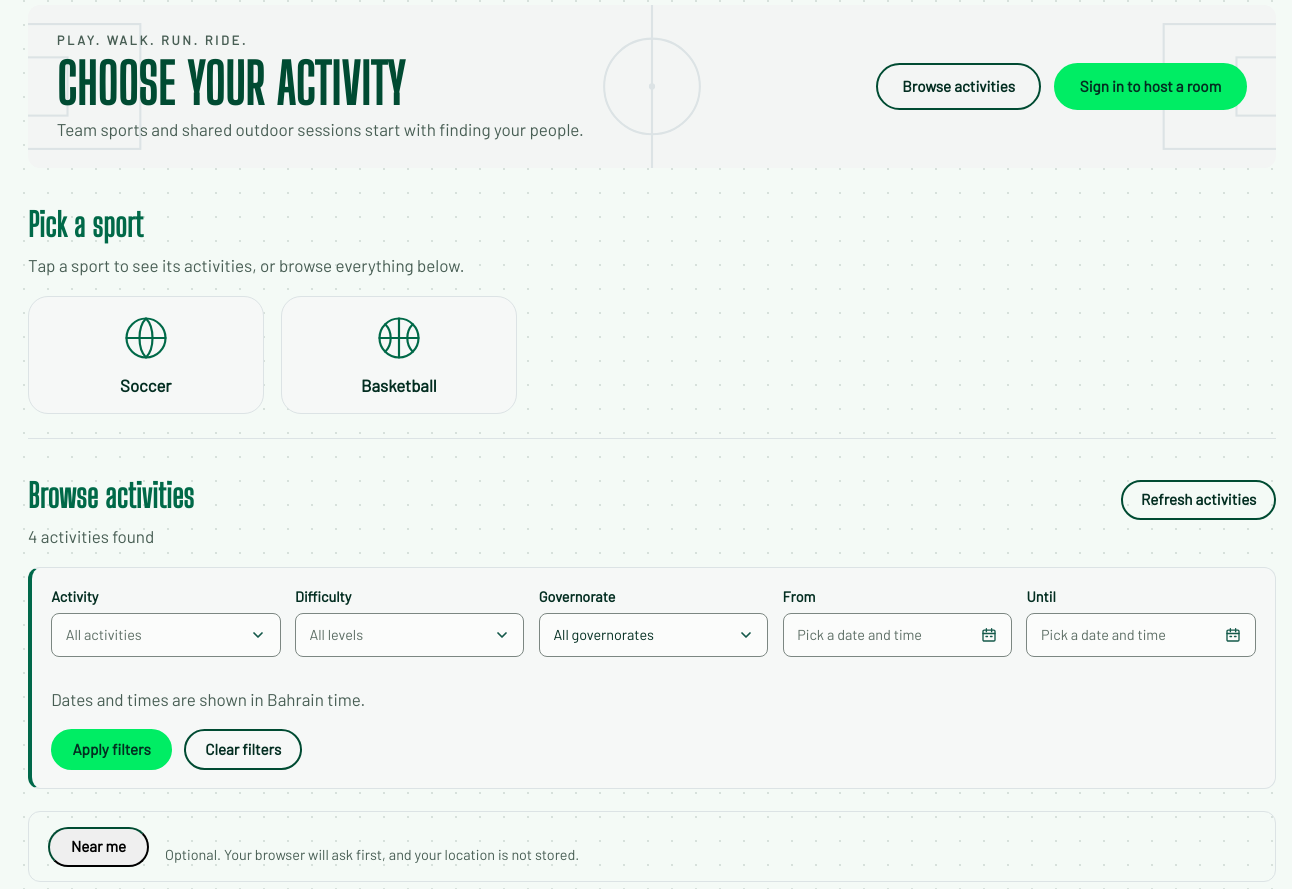
Test: Sports filters and discovery › applies all five filters with UTC timestamps and clears the URL and controls
This screenshot has width=1292, height=889.
Expected: the link "Soccer" is shown, [28,296,264,414]
Select "Basketball" in the dropdown labelled "Activity" at (166, 621), box [51,586,281,657]
Select "Medium" in the dropdown labelled "Difficulty" at (410, 621), box [295,586,524,657]
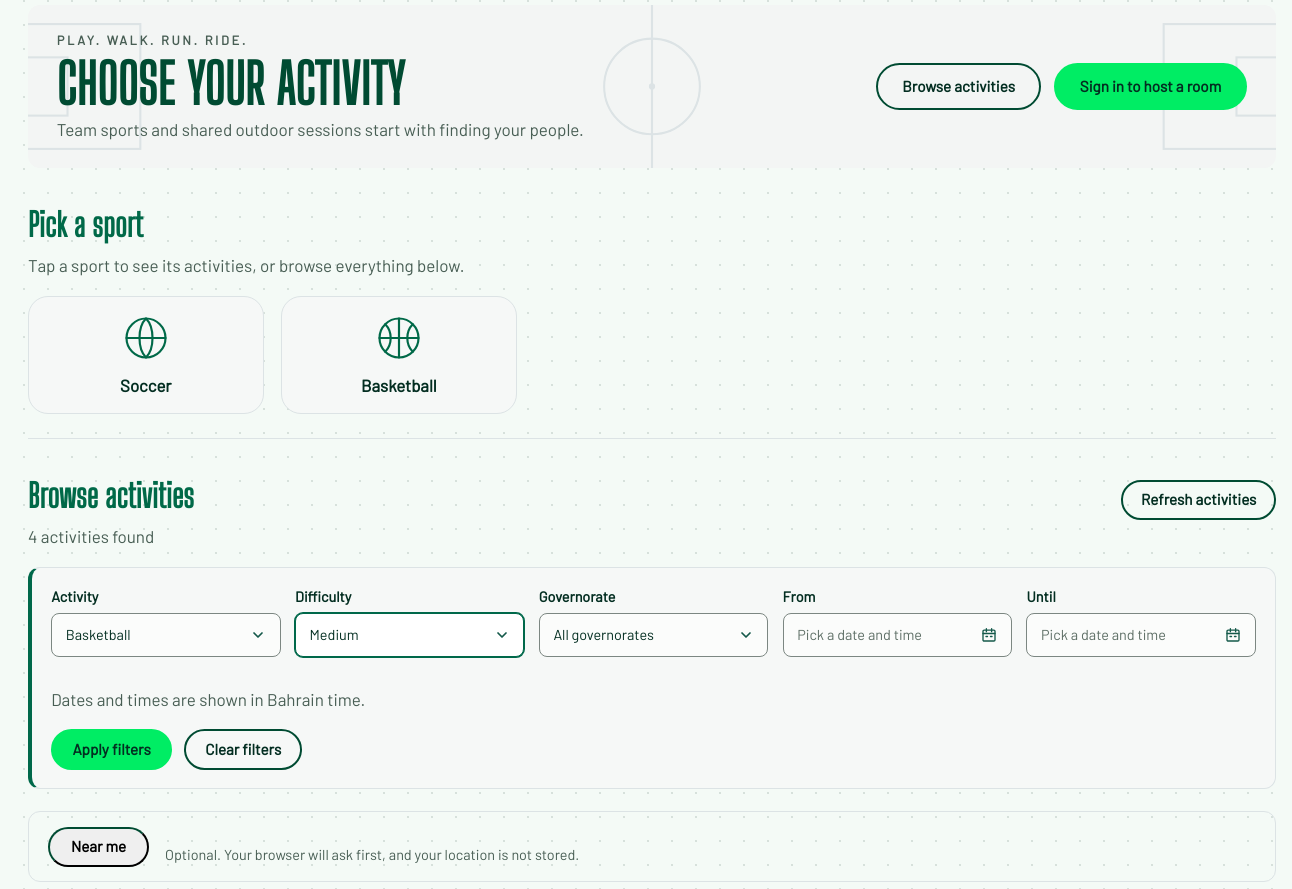
Select "Muharraq" in the dropdown labelled "Governorate" at (654, 621), box [539,586,768,657]
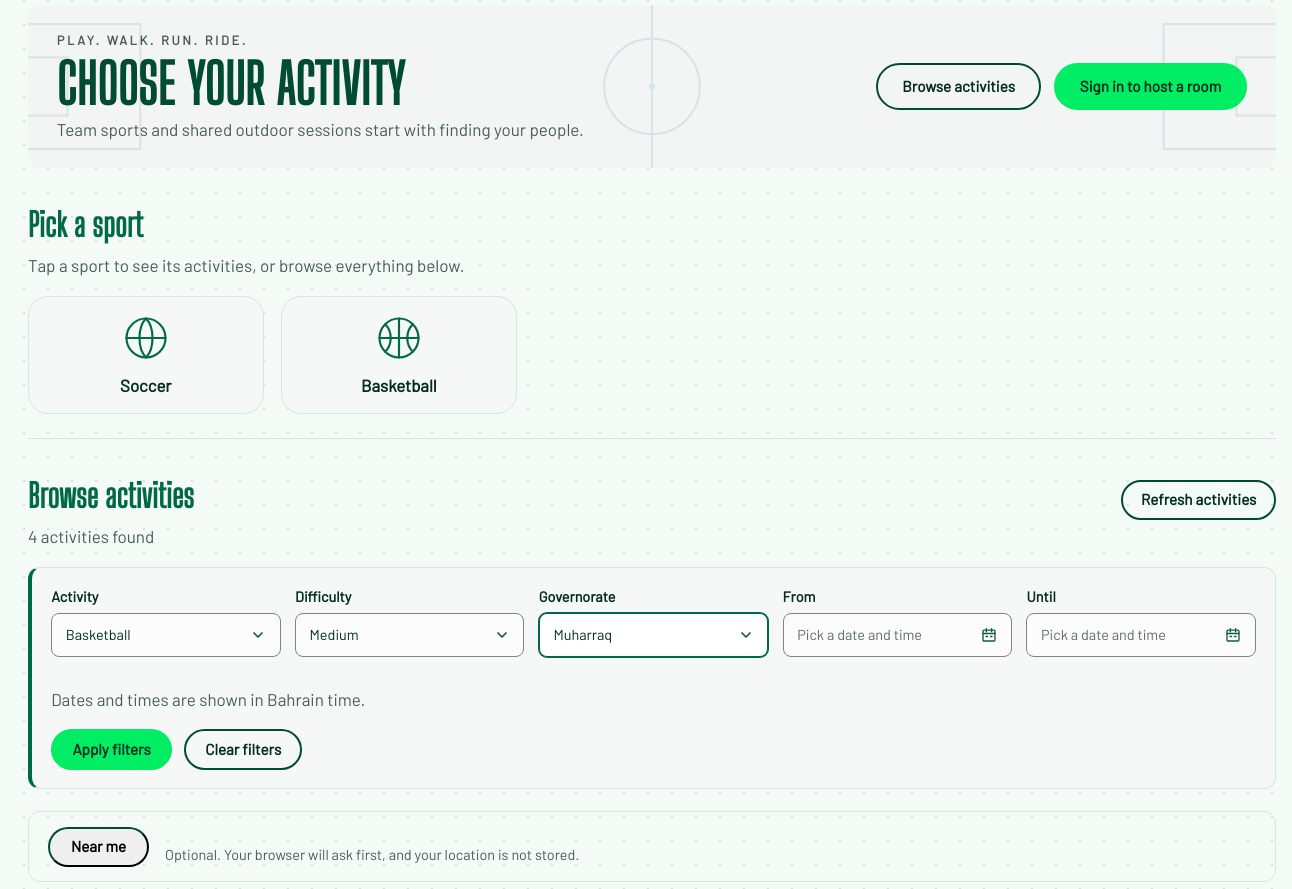
Replace the text in the field labelled "From" with "2030-10-10T18:00" at (897, 621), box [783,586,1012,657]
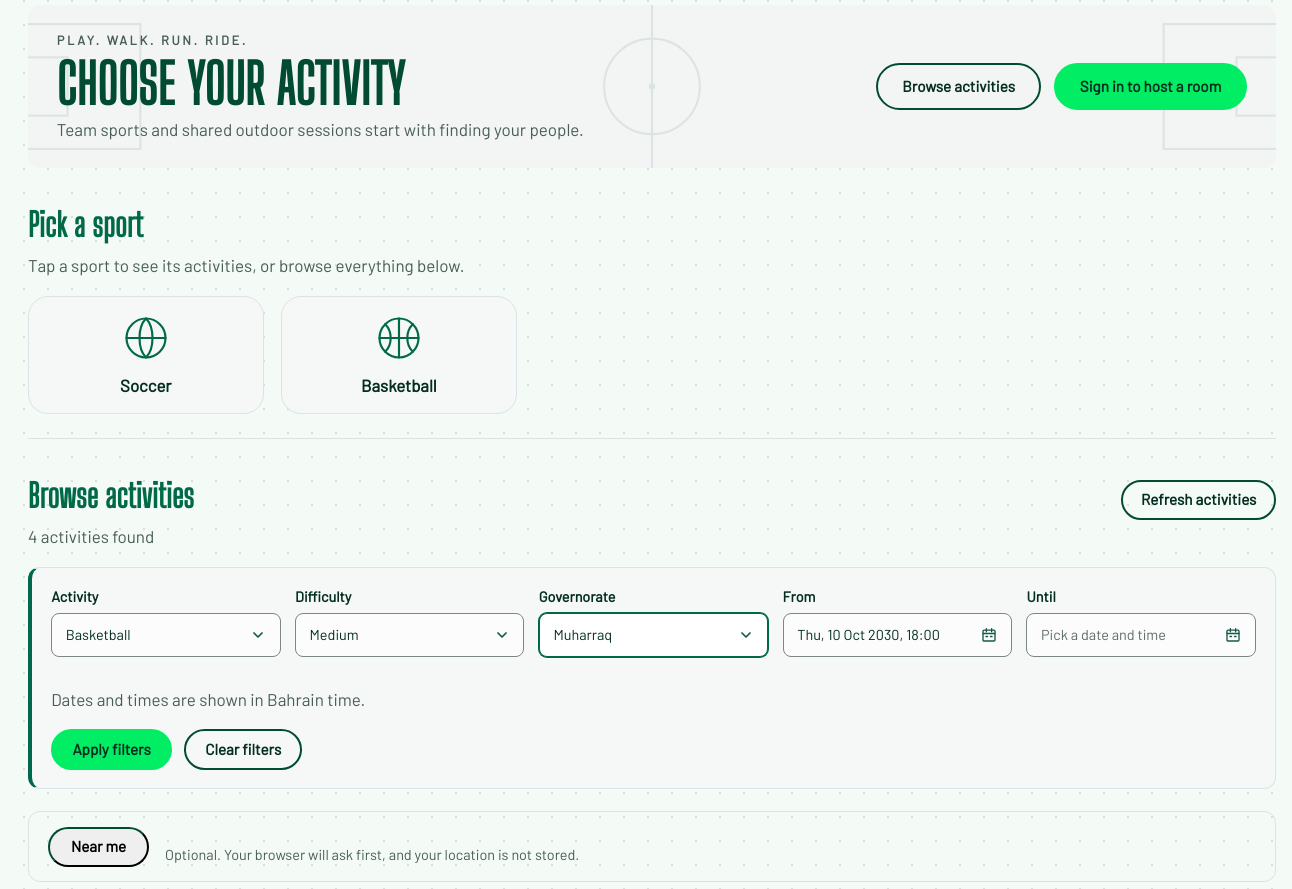
Replace the text in the field labelled "Until" with "2030-10-11T19:00" at (1141, 621), box [1026,586,1256,657]
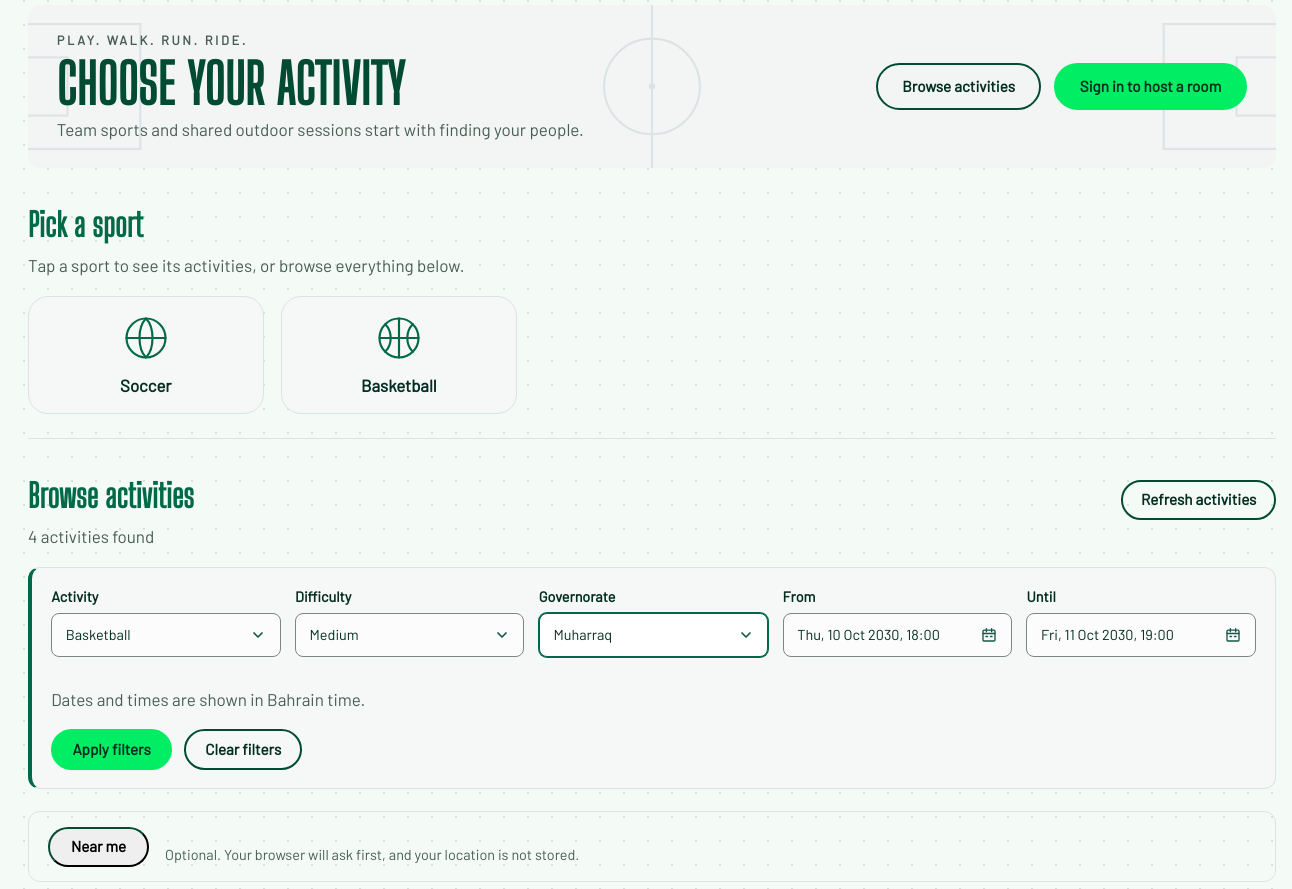
Click the button "Apply filters" at (112, 750), box [51,729,172,770]
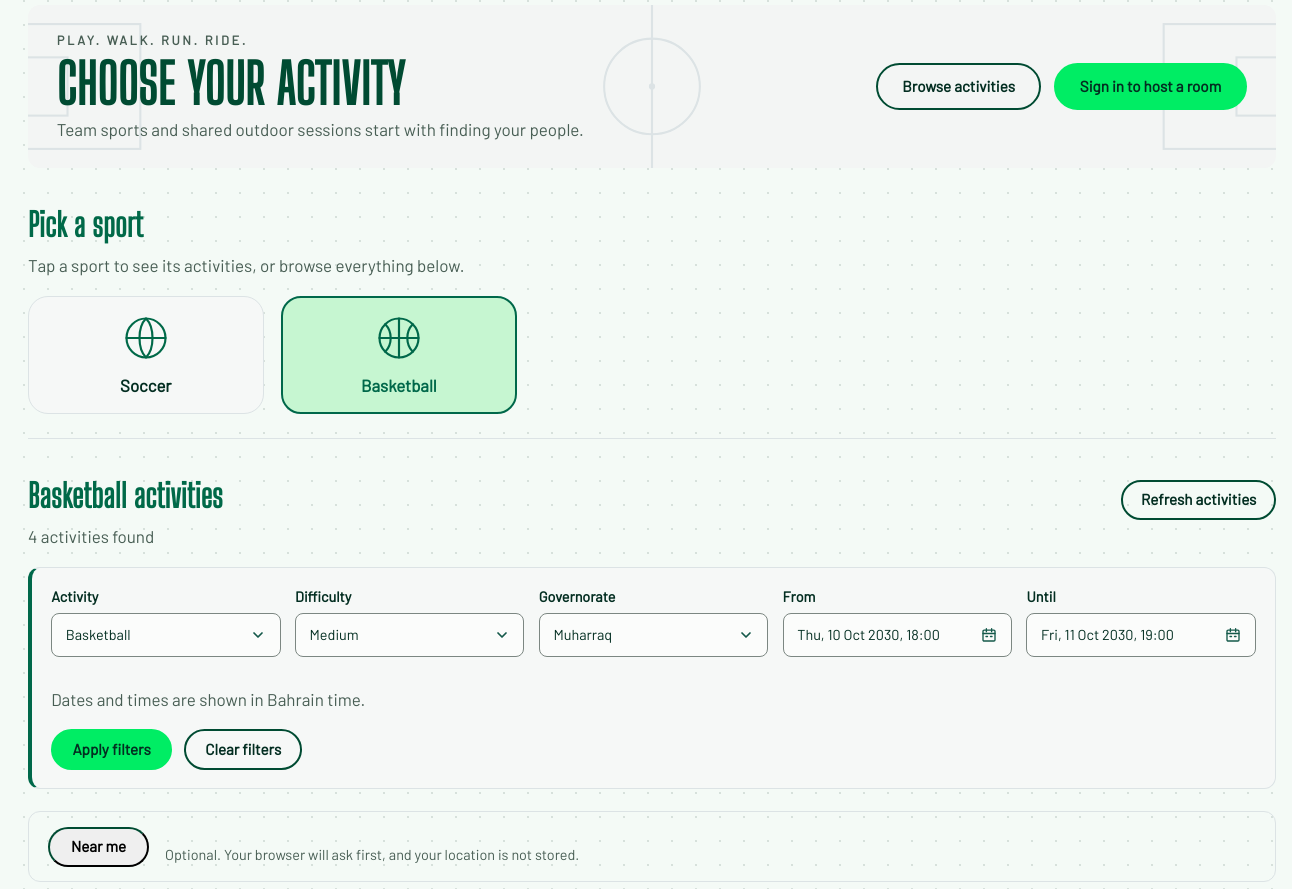
Click the button "Clear filters" at (243, 750), box [184,729,302,770]
(page scrolled)
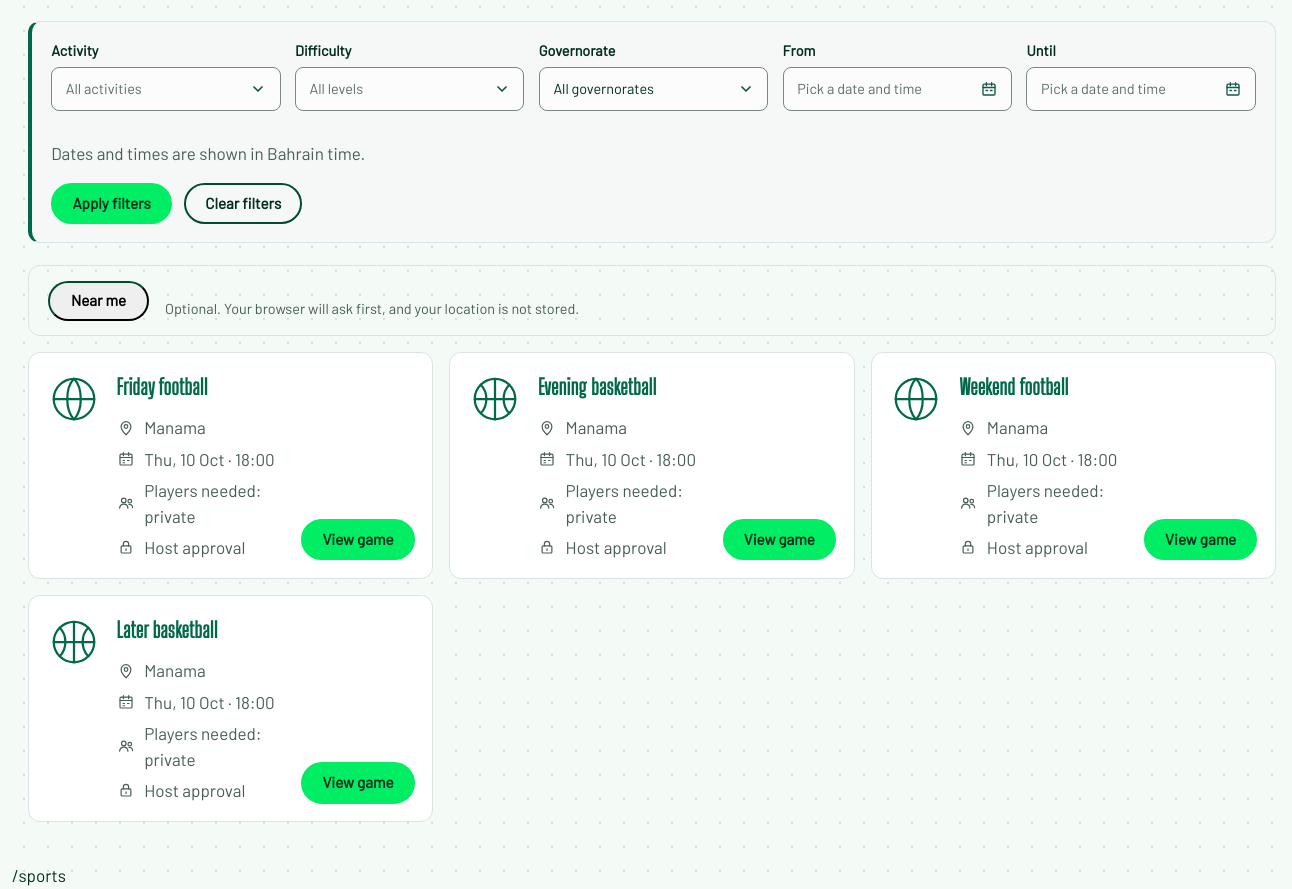
Expected: the label labelled "Activity" is empty, [51,40,281,111]
Expected: the text named "Current route" reads "/sports", [12,865,66,885]
